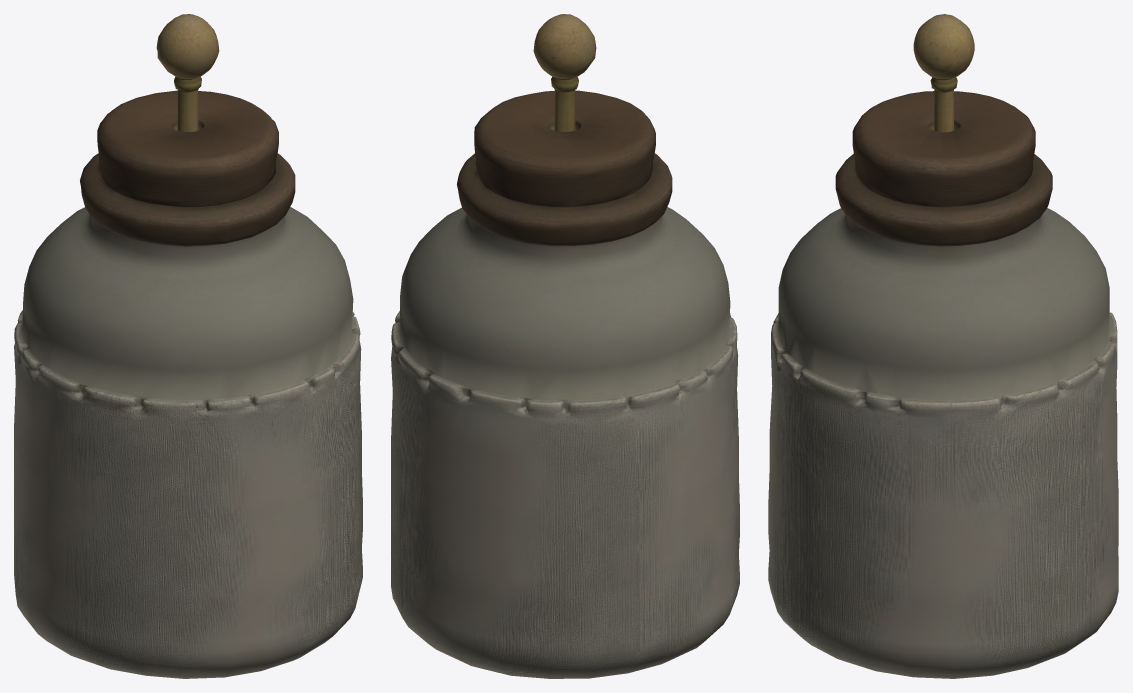
File: leiden.glb
The picture shows the model from 3 angles, left to right: view 1: azimuth 30°, elevation 25°; view 2: azimuth 150°, elevation 25°; view 3: azimuth 270°, elevation 25°; orthographic projection.
Parts seen in each view (by area): view 1: tripo_node_c1b7aa7c-e1ae-4da3-9abe-ffb09f3ca36a; view 2: tripo_node_c1b7aa7c-e1ae-4da3-9abe-ffb09f3ca36a; view 3: tripo_node_c1b7aa7c-e1ae-4da3-9abe-ffb09f3ca36a.
Part boxes in pixels (box(x1,y1,x2,y2)): tripo_node_c1b7aa7c-e1ae-4da3-9abe-ffb09f3ca36a: box(14, 14, 362, 678); tripo_node_c1b7aa7c-e1ae-4da3-9abe-ffb09f3ca36a: box(391, 14, 739, 678); tripo_node_c1b7aa7c-e1ae-4da3-9abe-ffb09f3ca36a: box(768, 14, 1118, 678).
Size of the model in its own units: 0.1008 by 0.19 by 0.1004.
Materials: 1 (1 with a texture image).
